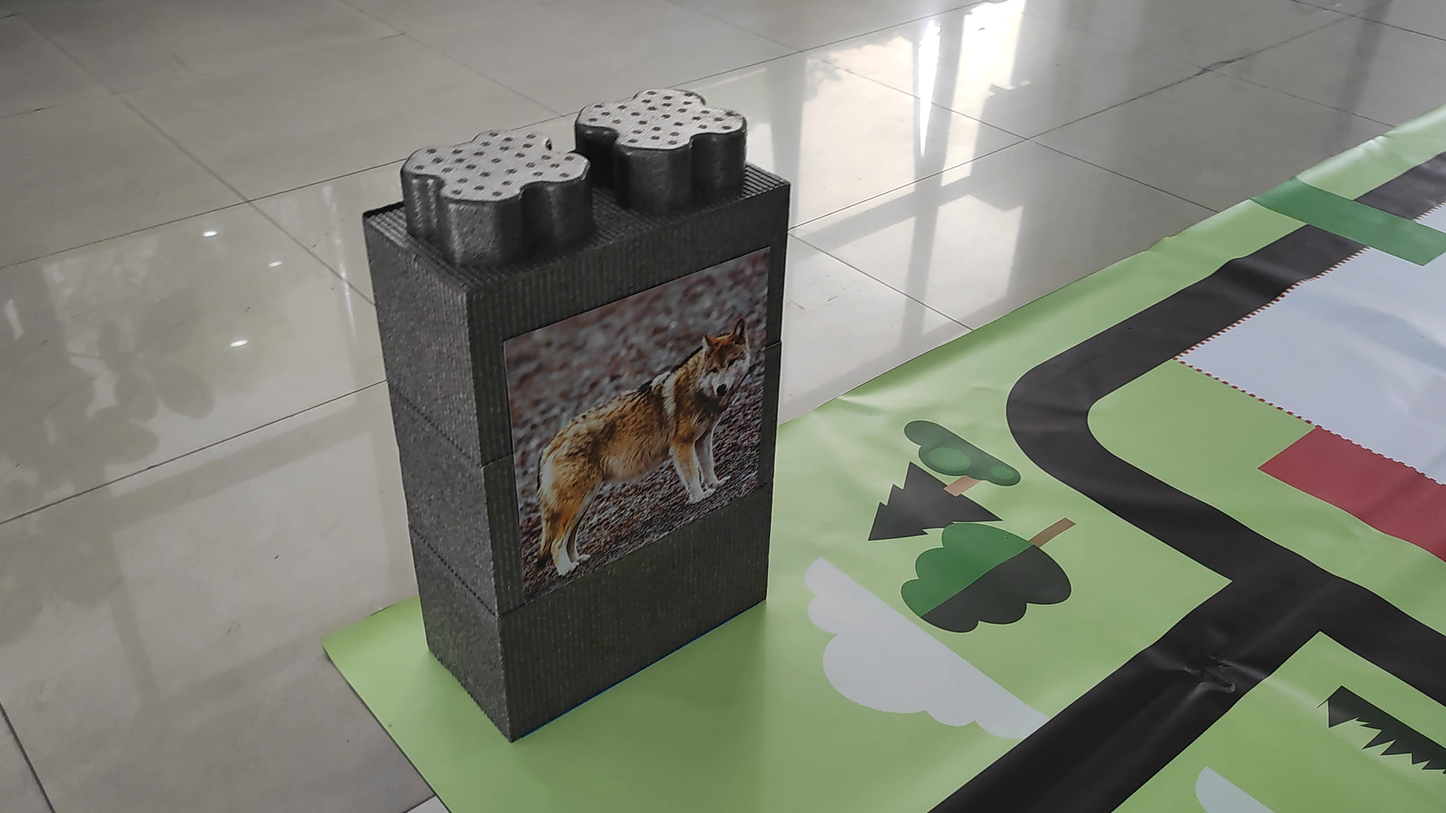wolf: (504, 309, 765, 602)
